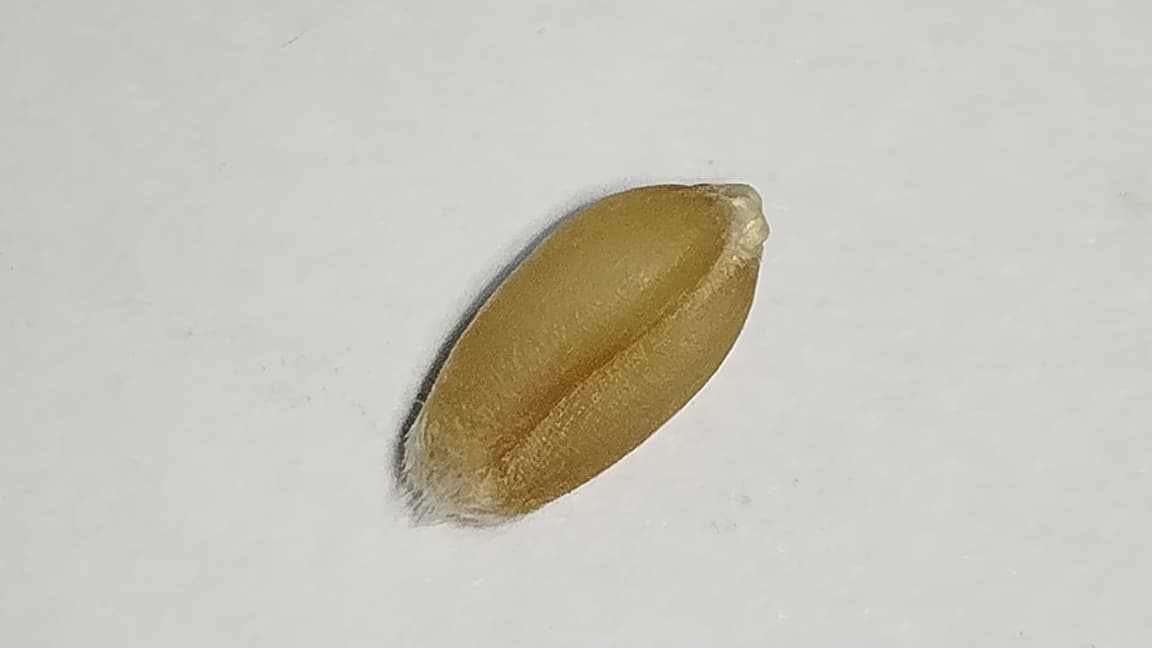healthy: (401, 184, 768, 523)
